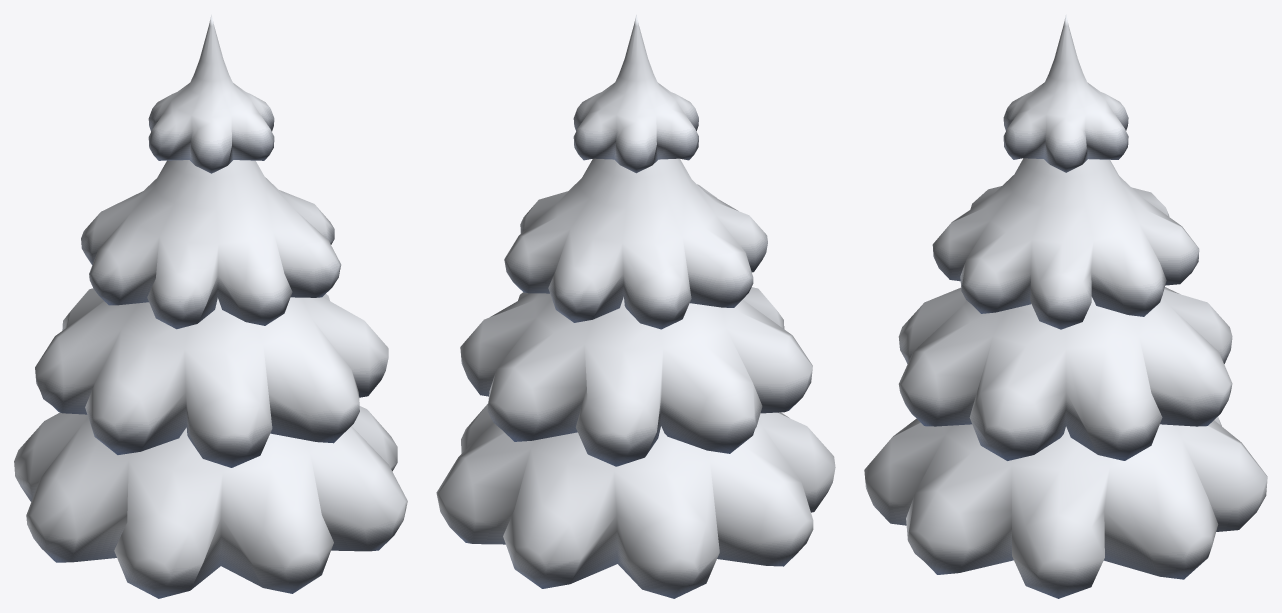
Rendered from SnowTree_01.fbx.
3 renders of one model, left to right at view 1: azimuth 30°, elevation 25°; view 2: azimuth 150°, elevation 25°; view 3: azimuth 270°, elevation 25°, orthographic.
Parts seen in each view (by area): view 1: SnowTree_01; view 2: SnowTree_01; view 3: SnowTree_01.
Part boxes in pixels (x1,y1,x2,y2): SnowTree_01: (14, 14, 407, 598); SnowTree_01: (436, 14, 835, 598); SnowTree_01: (864, 14, 1267, 598).
Size of the model in its own units: 2.31 by 3.4 by 2.31.
